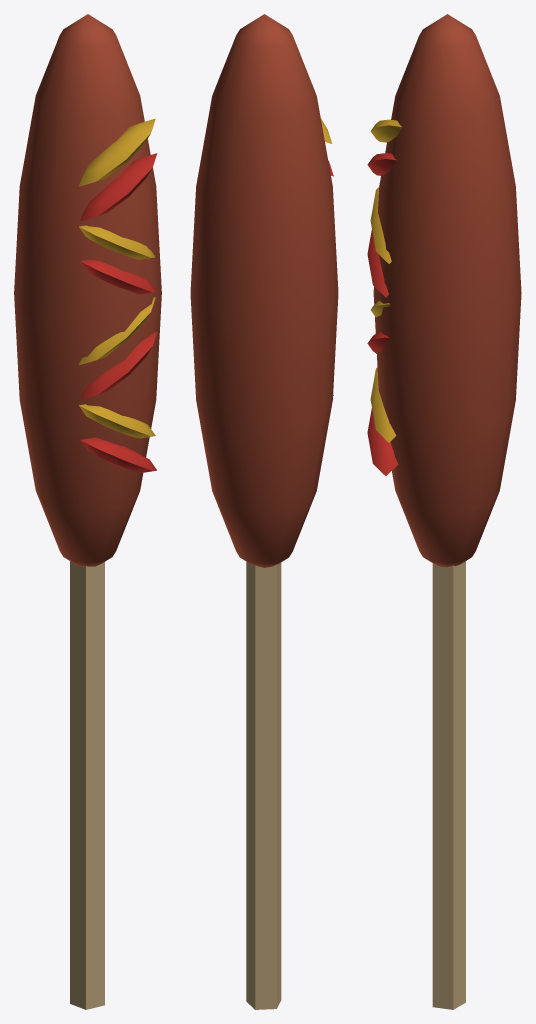
File: item_frank.glb
3 renders of one model, left to right at view 1: azimuth 30°, elevation 25°; view 2: azimuth 150°, elevation 25°; view 3: azimuth 270°, elevation 25°, orthographic.
Visible parts, largest first — view 1: item_frank; view 2: item_frank; view 3: item_frank.
Boxes of the visible parts, bbox=[...] form: item_frank: bbox=[14, 14, 161, 1009]; item_frank: bbox=[190, 14, 338, 1009]; item_frank: bbox=[367, 14, 521, 1009].
Bounding box in the file's own units: 0.048 × 0.354 × 0.05.
